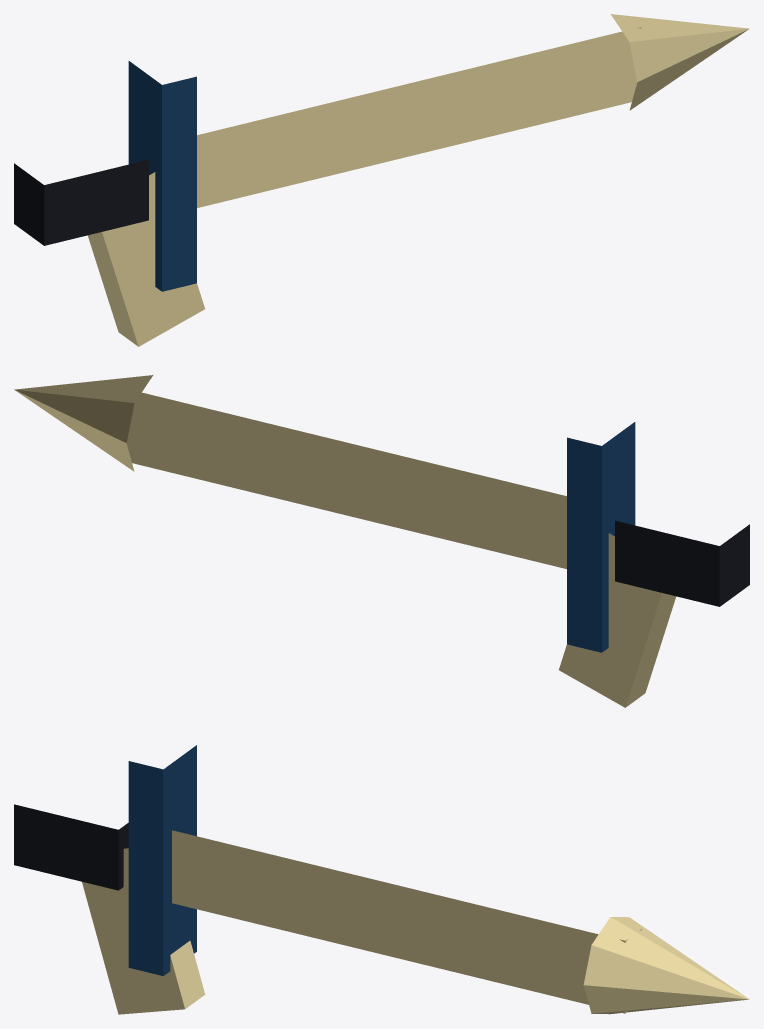
Rendered from kunkka.glb.
The picture shows the model from 3 angles, top to bottom: view 1: azimuth 30°, elevation 25°; view 2: azimuth 150°, elevation 25°; view 3: azimuth 330°, elevation 25°; orthographic projection.
Parts seen in each view (by area): view 1: kunkka-blade, kunkka-guard, kunkka-grip, kunkka-knuckle, kunkka-tip; view 2: kunkka-blade, kunkka-guard, kunkka-grip, kunkka-knuckle, kunkka-tip; view 3: kunkka-blade, kunkka-guard, kunkka-tip, kunkka-knuckle, kunkka-grip.
Part boxes in pixels (x1,y1,x2,y2): kunkka-blade: (197, 26, 641, 207); kunkka-guard: (128, 61, 196, 291); kunkka-grip: (14, 159, 148, 245); kunkka-knuckle: (87, 172, 204, 346); kunkka-tip: (610, 14, 749, 110); kunkka-blade: (122, 387, 566, 568); kunkka-guard: (567, 422, 635, 652); kunkka-grip: (615, 520, 749, 606); kunkka-knuckle: (559, 533, 676, 707); kunkka-tip: (14, 375, 153, 471); kunkka-blade: (172, 830, 641, 1013); kunkka-guard: (128, 745, 196, 976); kunkka-tip: (583, 917, 749, 1014); kunkka-knuckle: (82, 848, 205, 1014); kunkka-grip: (14, 804, 128, 890).
Bounding box in the file's own units: 1.24 × 0.4319 × 0.16.
